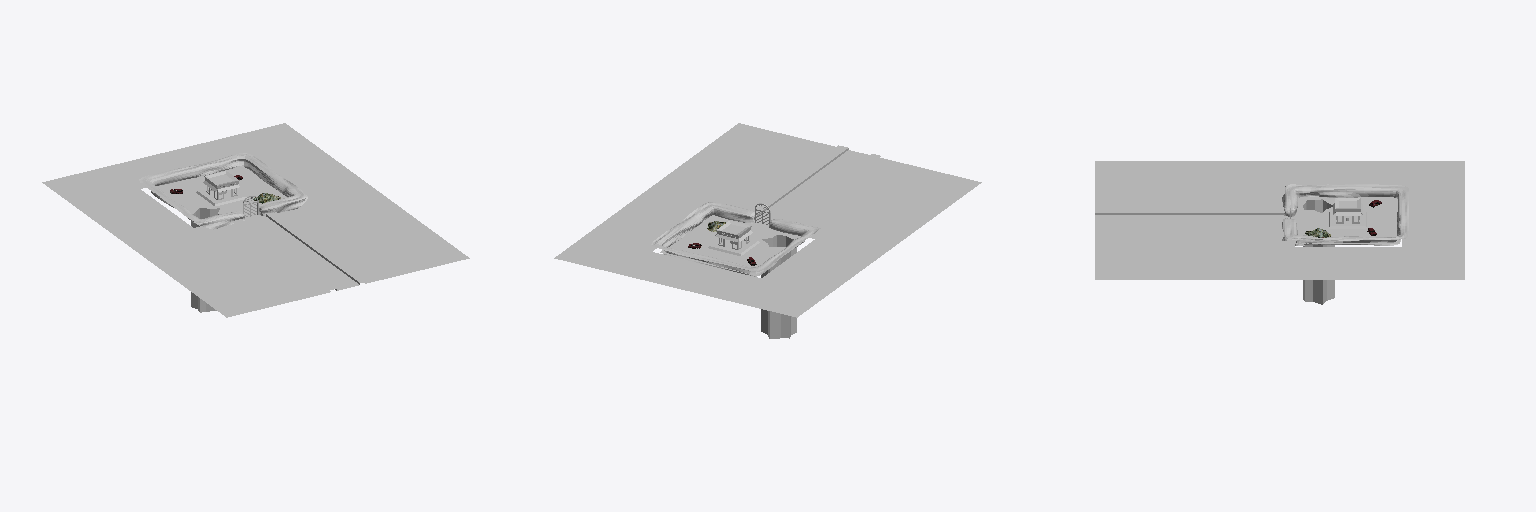
3 views of the same model, side by side, from view 1: azimuth 30°, elevation 25°; view 2: azimuth 150°, elevation 25°; view 3: azimuth 270°, elevation 25° (orthographic).
Parts seen in each view (by area): view 1: Outside, Road, Bulding; view 2: Outside, Road, Bulding; view 3: Outside, Road, Bulding.
Part boxes in pixels (bbox=[...]): Outside: bbox=[42, 123, 469, 317]; Road: bbox=[139, 153, 307, 312]; Bulding: bbox=[196, 171, 247, 205]; Outside: bbox=[554, 123, 981, 317]; Road: bbox=[651, 202, 820, 338]; Bulding: bbox=[708, 221, 759, 255]; Outside: bbox=[1095, 161, 1464, 279]; Road: bbox=[1282, 184, 1408, 304]; Bulding: bbox=[1329, 198, 1366, 228].
Size of the model in its own units: 85.63 by 37.84 by 113.
Materials: 7 (3 with a texture image).